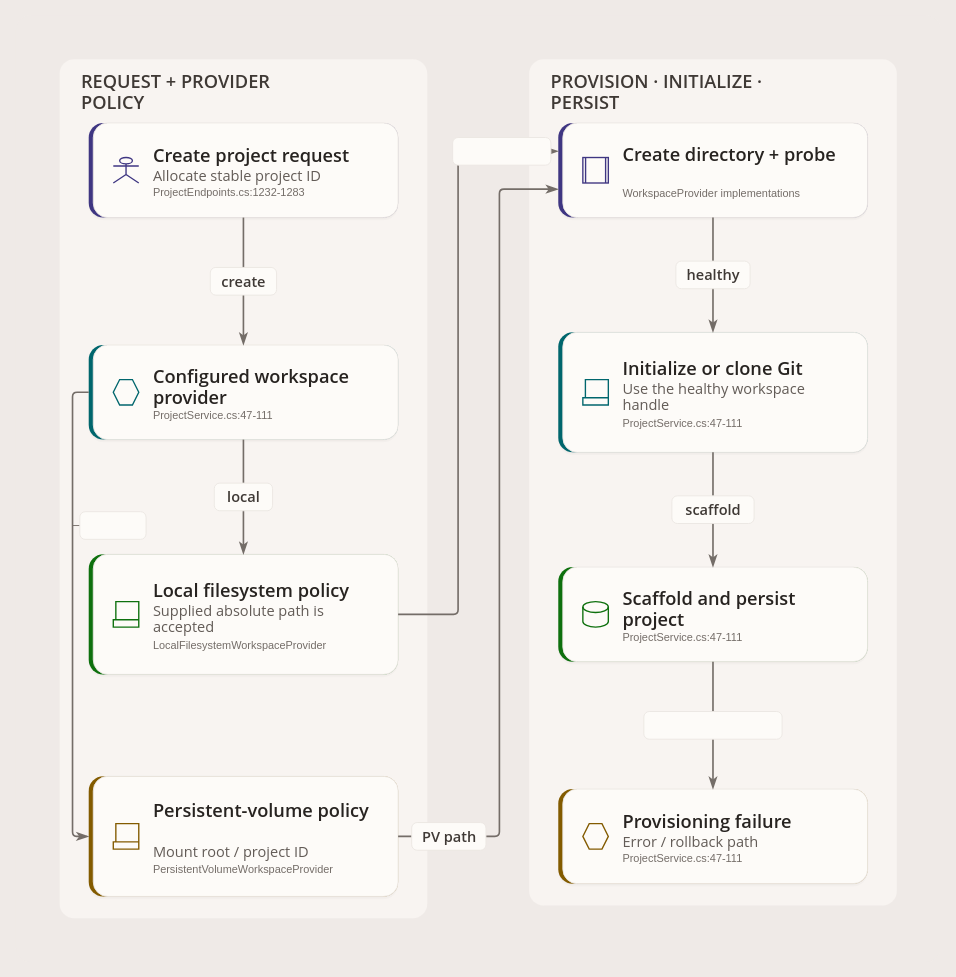
Image size: 956x977. Some labels were removed from this diagram. Each missing label, with the centre of its shape:
"if create fails" belongs at (712,725).
"local path" belongs at (501,151).
"volume" belongs at (112,525).
